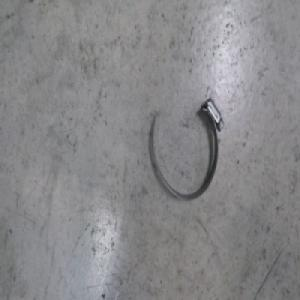AdjustableClamp: (149, 95, 225, 204)
